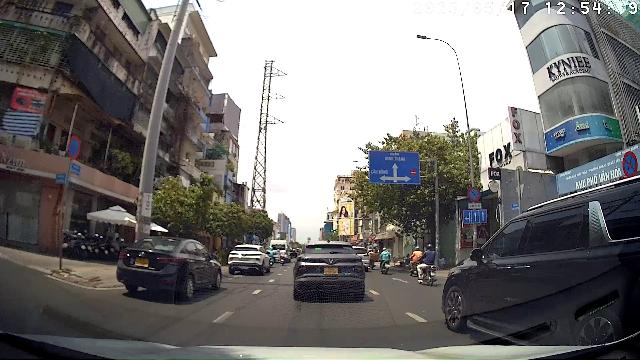130-cam-dung-va-do-xe: (623, 151, 638, 177)
131a-cam-do-xe: (467, 186, 481, 202)
